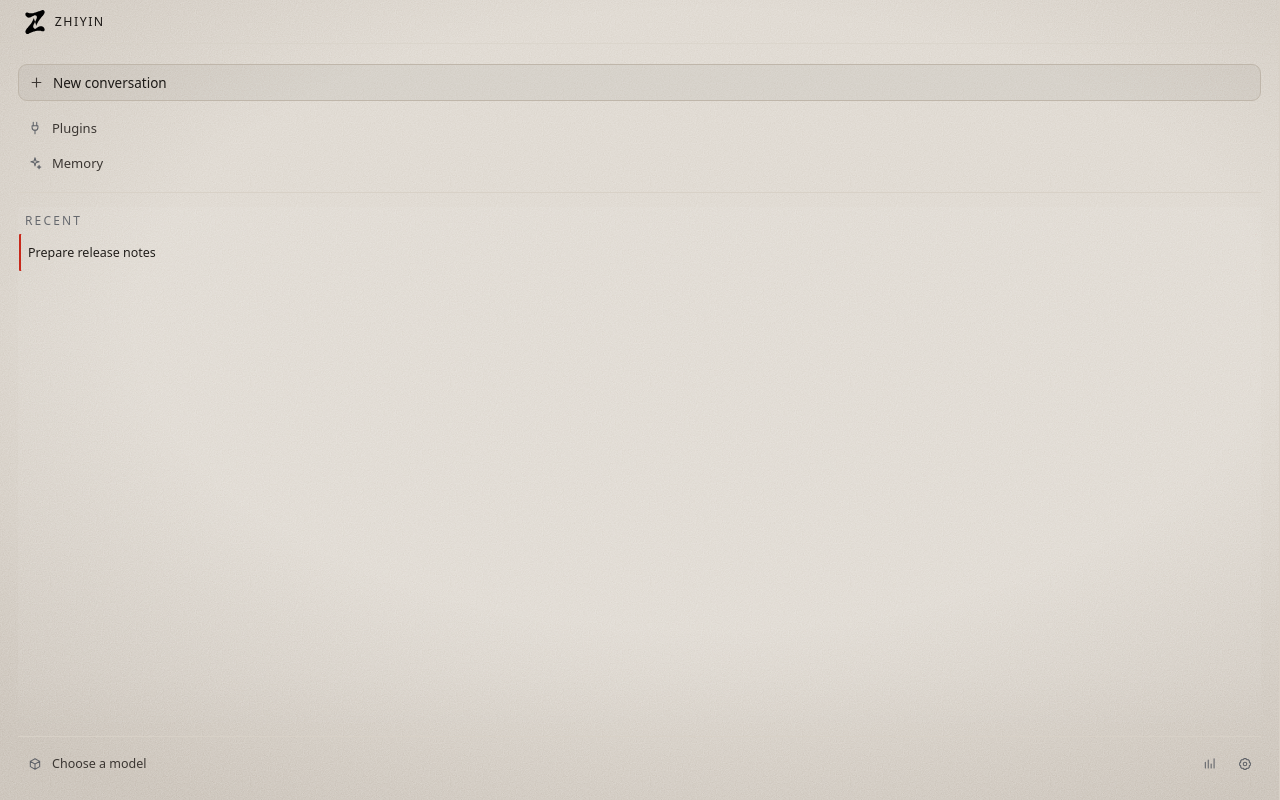
Test case: AppSidebar › offers one Export item in a conversation's menu, which asks how to export it
Step 1. Right-click the button "Prepare release notes" → (92, 252), box x1=18 y1=233 x2=1261 y2=272
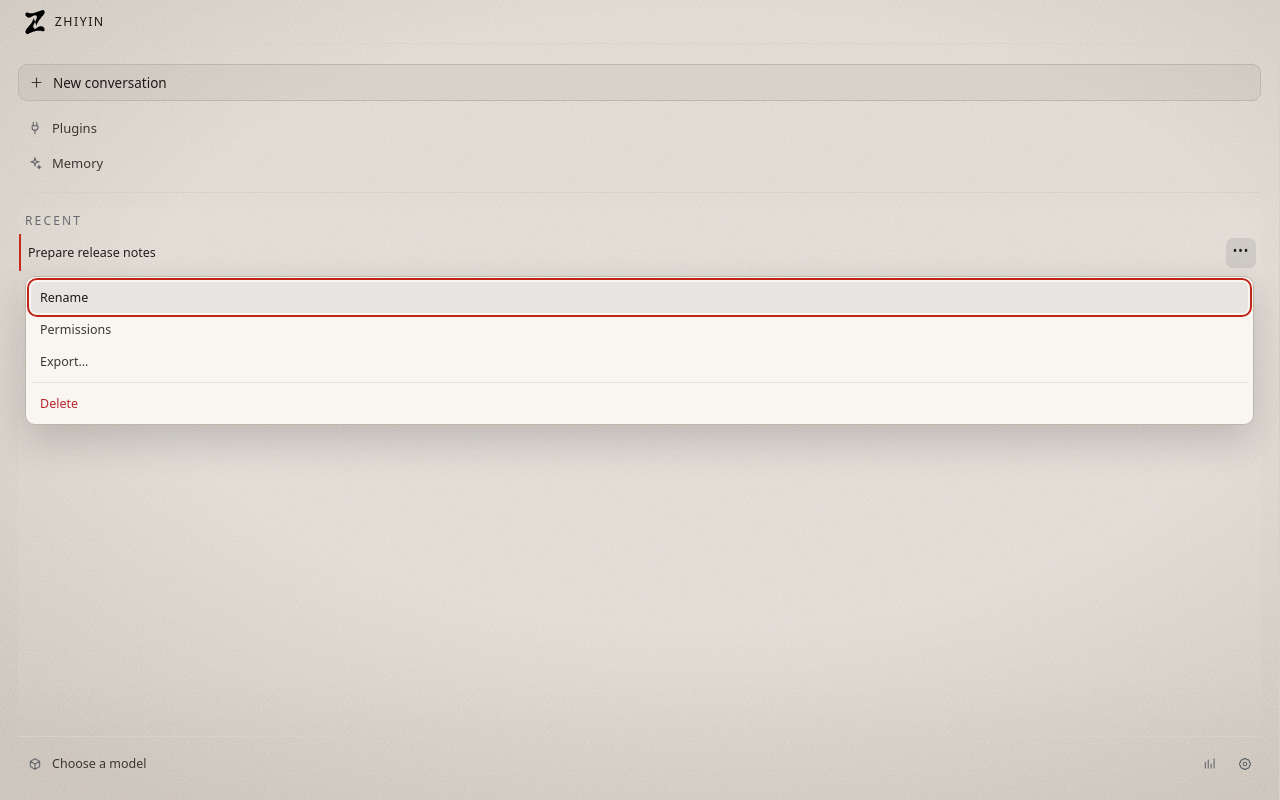
Expected: the number of menu items "Export…" is 1
Step 2. Click the menu item "Export…" → (64, 362), box x1=31 y1=346 x2=1248 y2=377
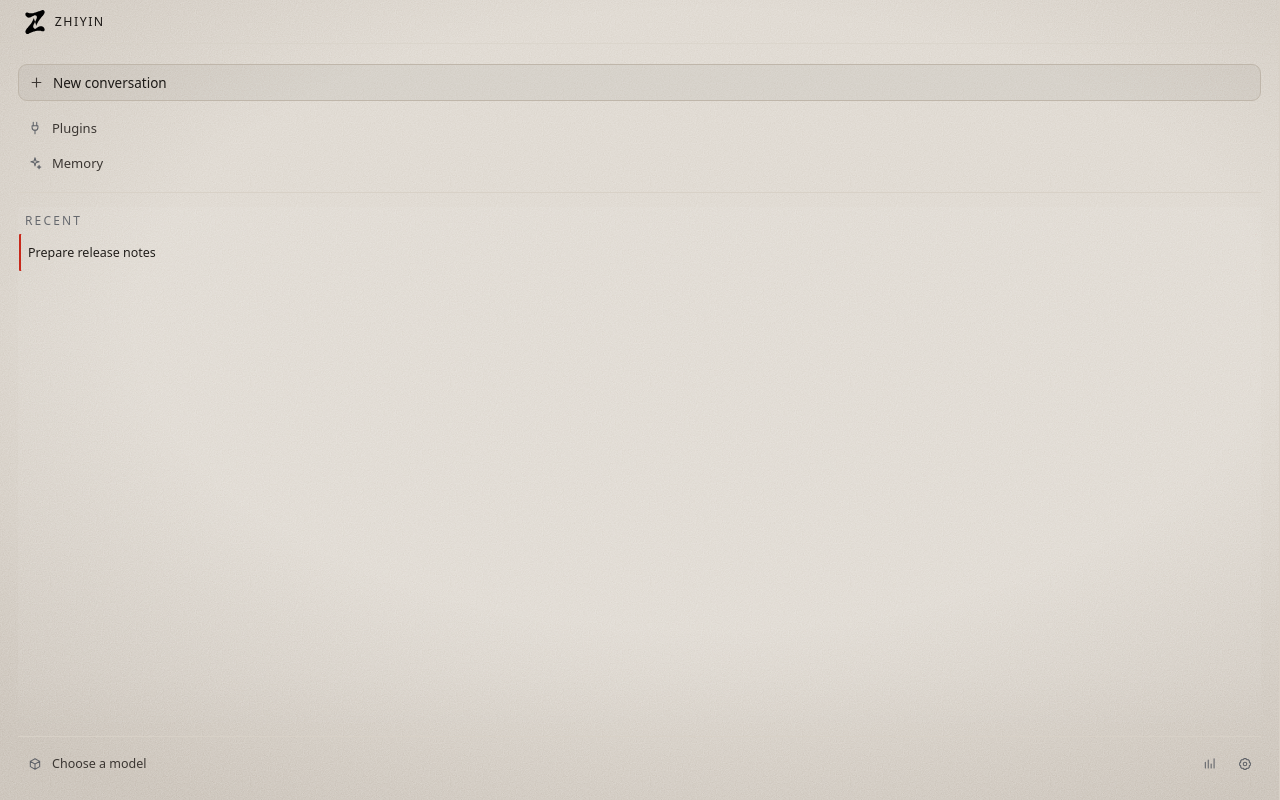
Expected: the menu is gone
